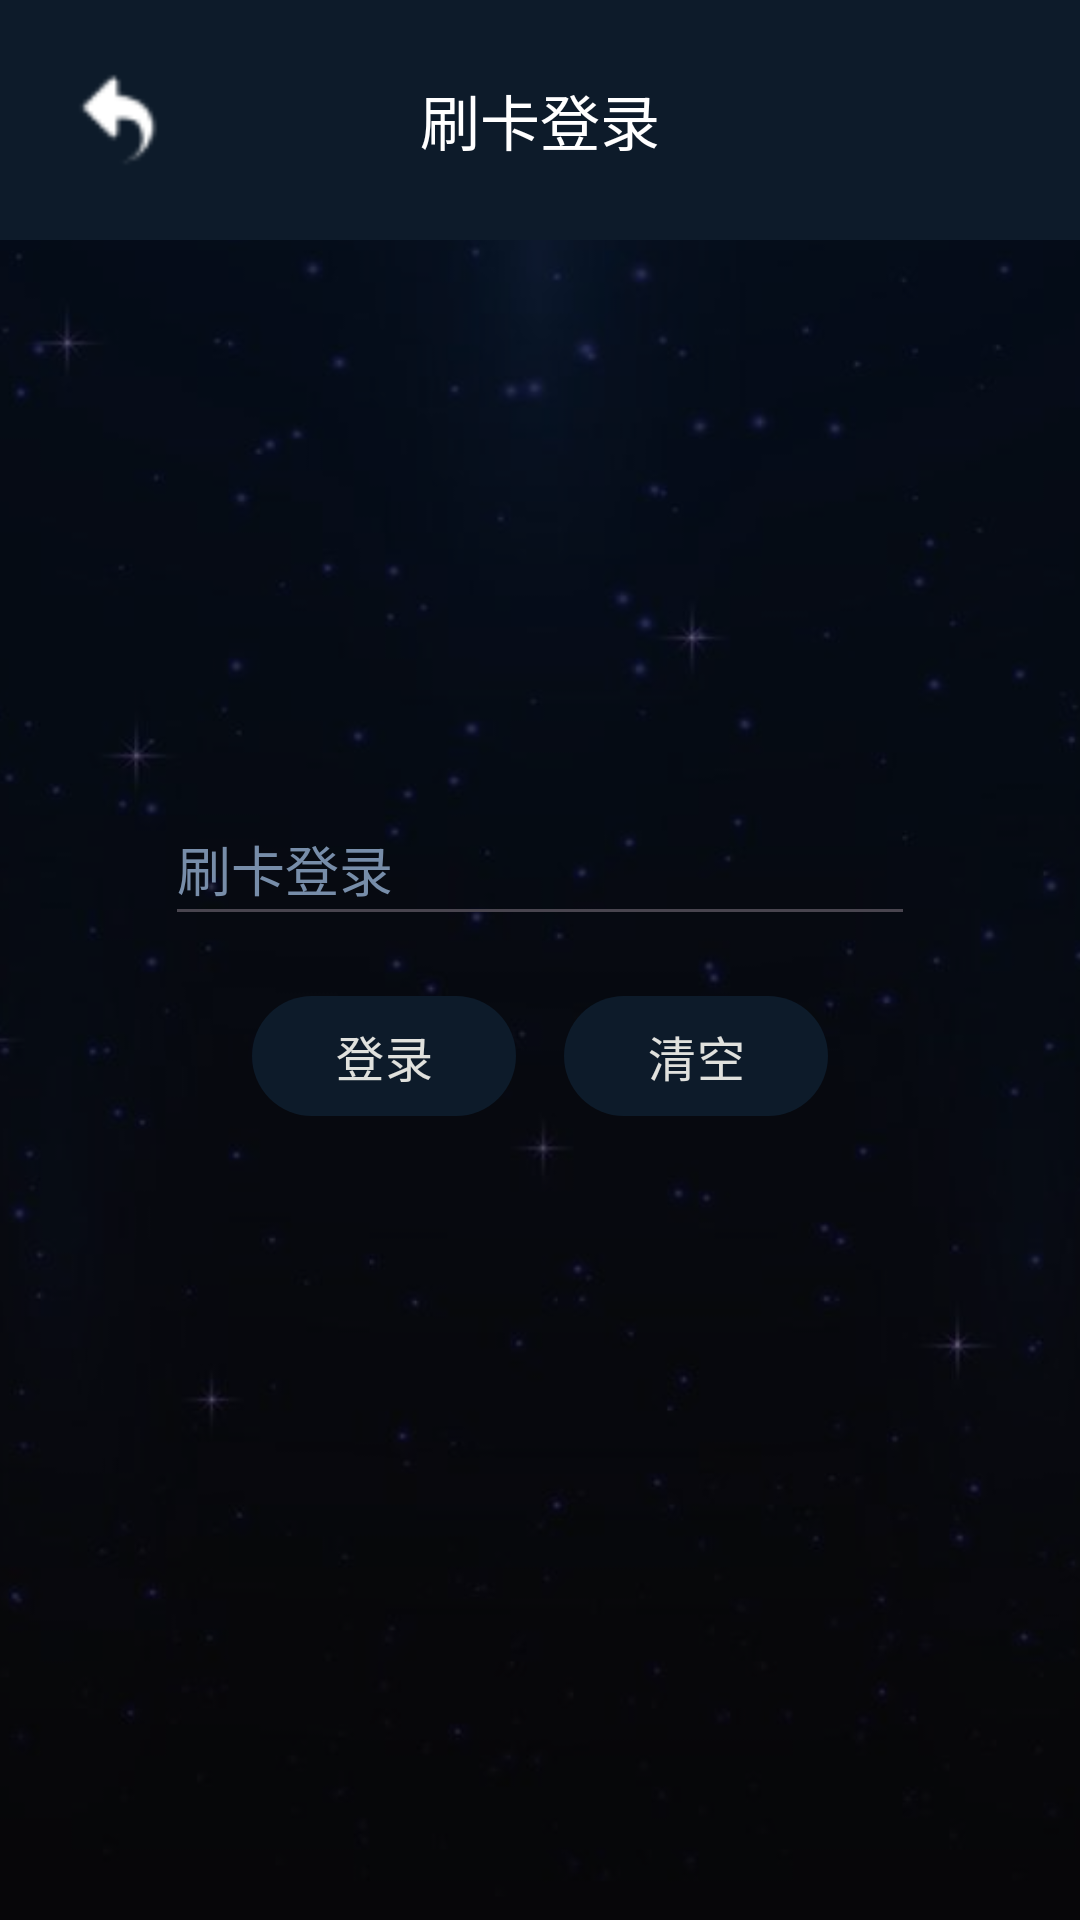

Icon bounding boxes for this 1080 x 1920 phone screenshot, format (left=x1, top=y1, right=x2, bottom=y2):
返回: (left=82, top=75, right=156, bottom=160)
